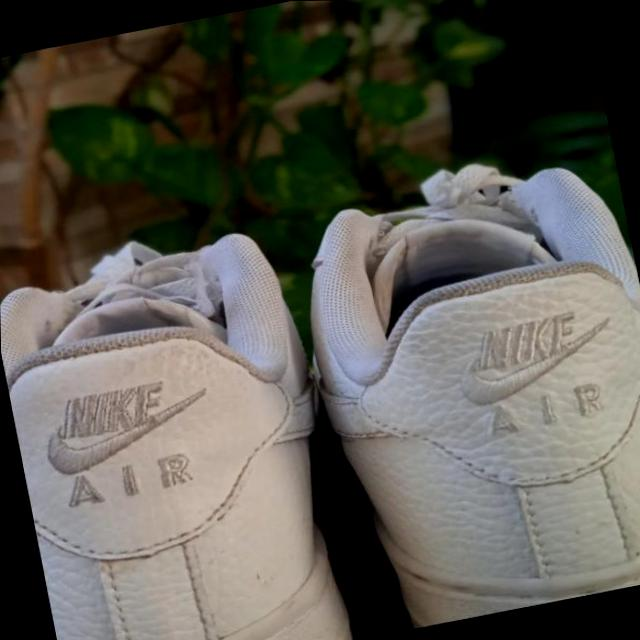nike_fake_airforce: (284, 155, 640, 638), (0, 219, 363, 640)
